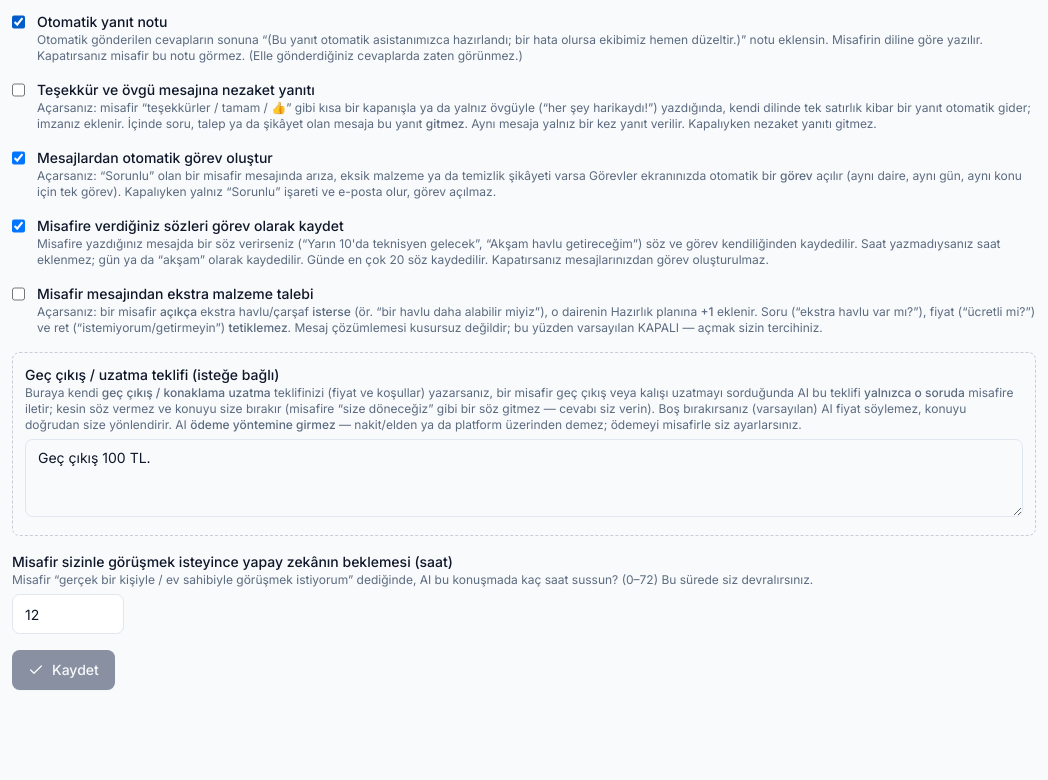
it: otomasyon ayarları — yalnız değişen alan gider (X3) › KONTROL: kayıttan sonra taban güncellenir — ikinci kayıt yalnız YENİ değişikliği yollar
This screenshot has width=1048, height=780.
Later steps or results of the test are not shown.
Replace the text in the number field labelled "yapay zekânın beklemesi" with "24" at (68, 614), box [12,594,124,634]
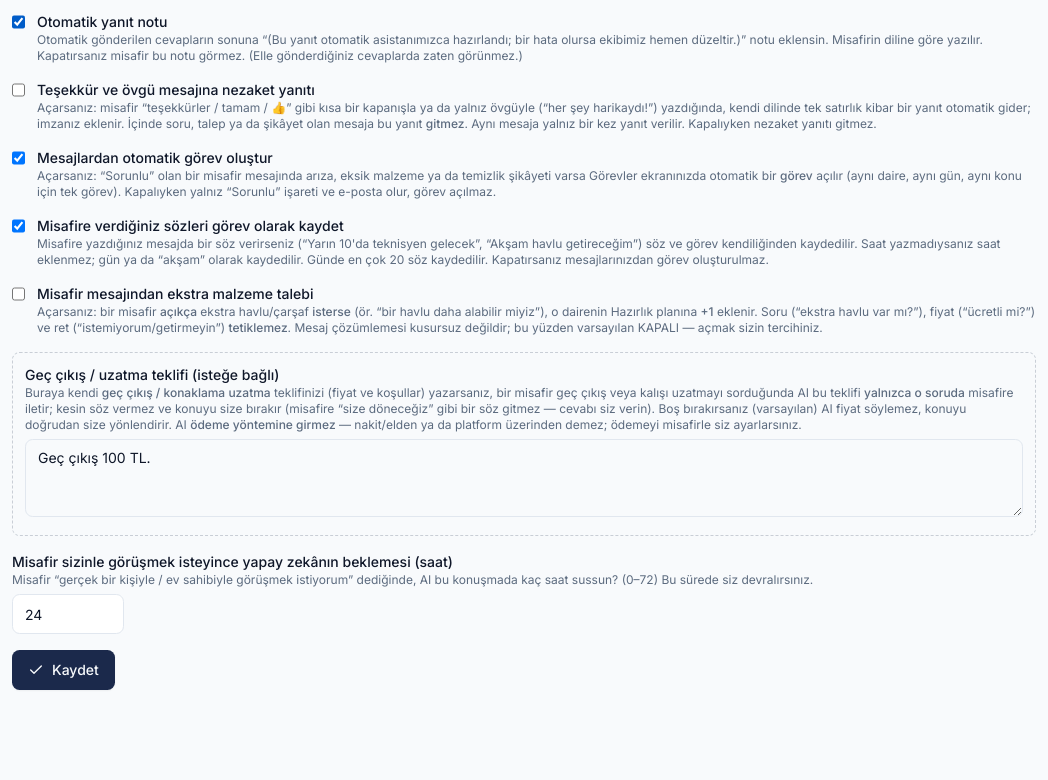
Click the button "Kaydet" at (63, 670), box [12,650,115,690]
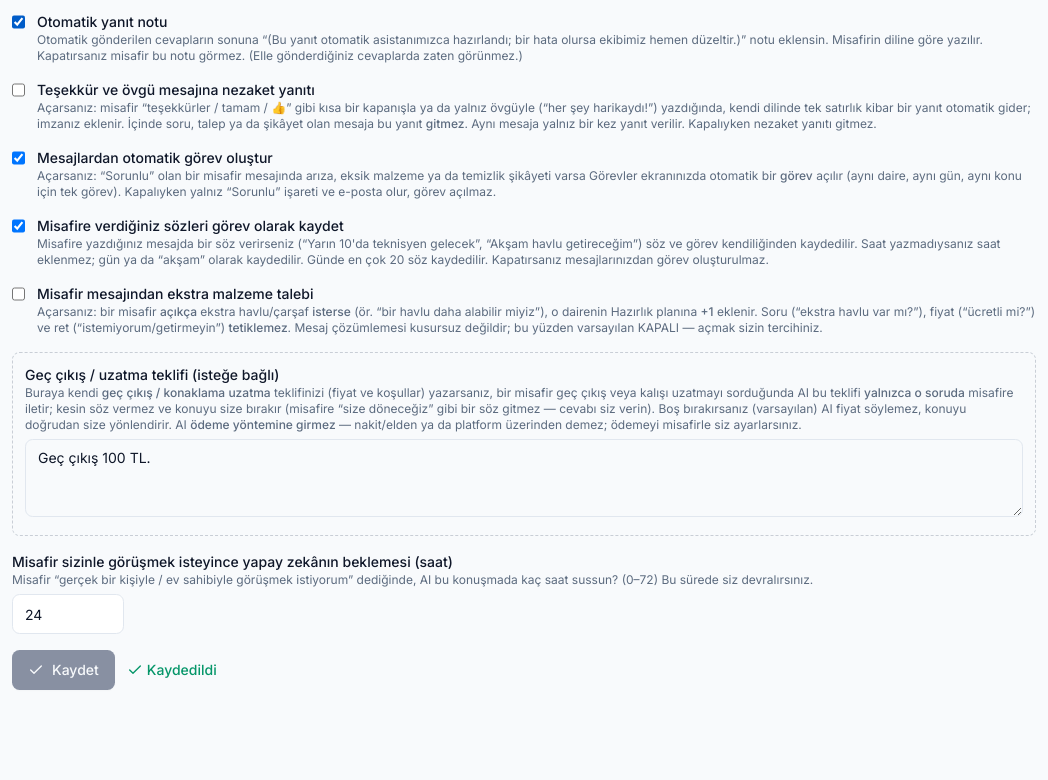
Result: the button "Kaydet" is disabled at [12,650,115,690]
Result: the text "Kaydedildi" is shown at [127,660,217,680]
